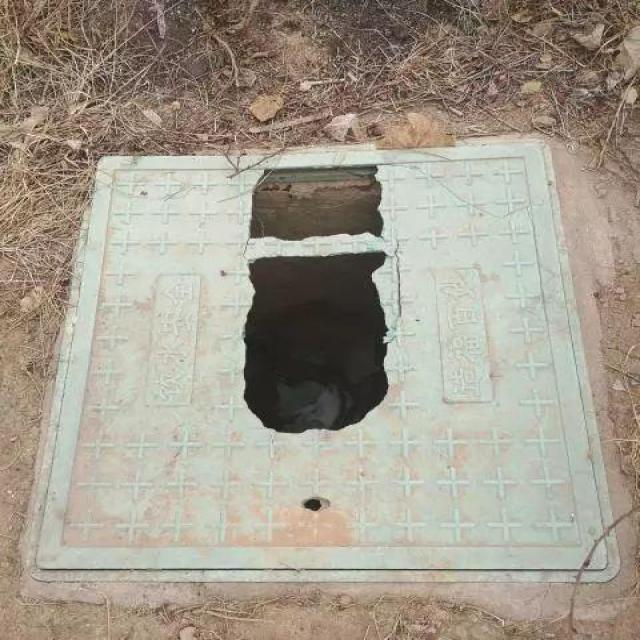manhole: (25, 140, 611, 590)
